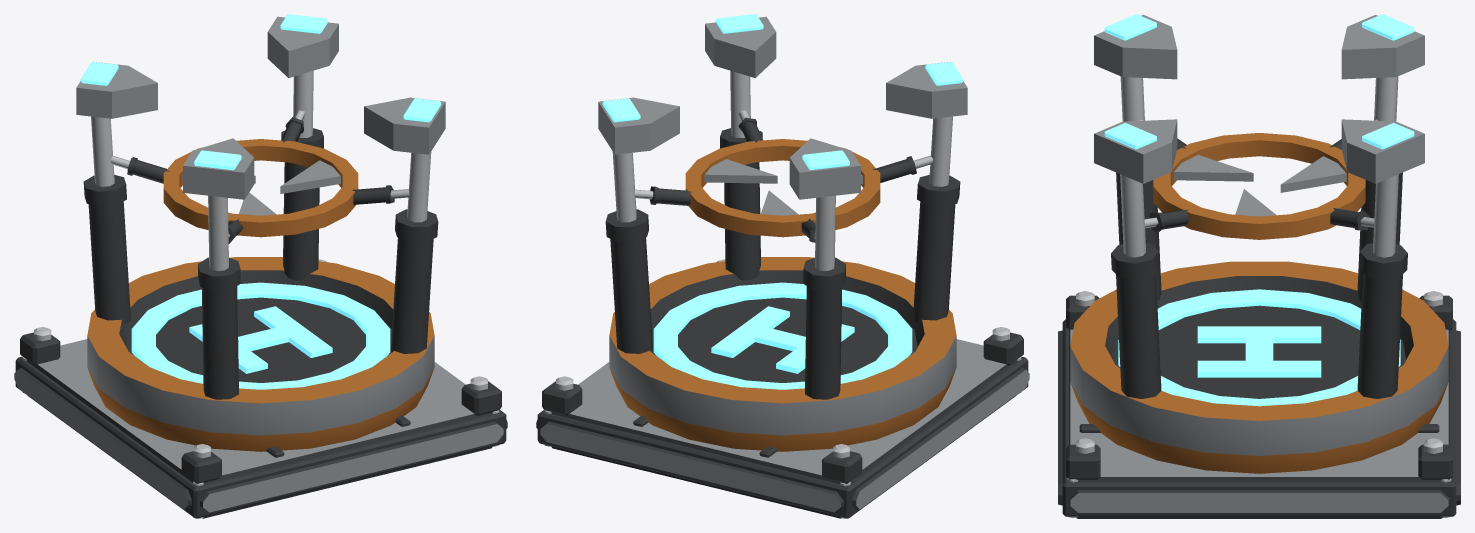
The model's file is R4X_FlyingDroneDeployer.fbx.
3 views of the same model, side by side, from view 1: azimuth 30°, elevation 25°; view 2: azimuth 150°, elevation 25°; view 3: azimuth 270°, elevation 25° (orthographic). The views are drawn at different scales.
Parts seen in each view (by area): view 1: R4X_FlyingDroneDeployer_Body, R4X_FlyingDroneDeployer_Iris; view 2: R4X_FlyingDroneDeployer_Body, R4X_FlyingDroneDeployer_Iris; view 3: R4X_FlyingDroneDeployer_Body, R4X_FlyingDroneDeployer_Iris.
Part boxes in pixels (box(x1,y1,x2,y2)): R4X_FlyingDroneDeployer_Body: box(14, 14, 507, 518); R4X_FlyingDroneDeployer_Iris: box(163, 139, 358, 237); R4X_FlyingDroneDeployer_Body: box(536, 14, 1029, 518); R4X_FlyingDroneDeployer_Iris: box(685, 139, 880, 237); R4X_FlyingDroneDeployer_Body: box(1058, 14, 1460, 518); R4X_FlyingDroneDeployer_Iris: box(1153, 133, 1365, 239).
Size of the model in its own units: 0.52 by 0.513 by 0.52.
